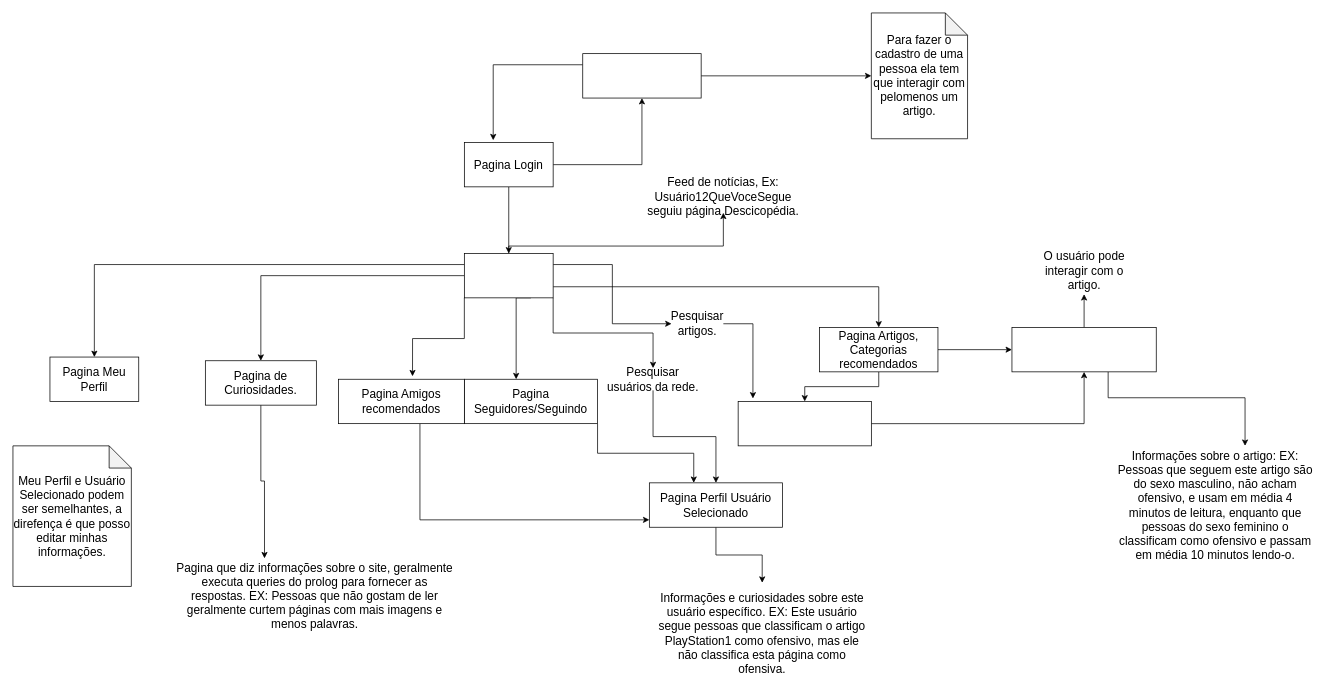
This 1328x696 diagram has some shape labels left out. Each missing label, with the centre of its shape:
"Pagina Cadastro" belongs at (641,75).
"Pagina Informações Artigo" belongs at (1083,349).
"Pagina Leitura Artigo" belongs at (804,423).
"Pagina Principal" belongs at (508,275).
